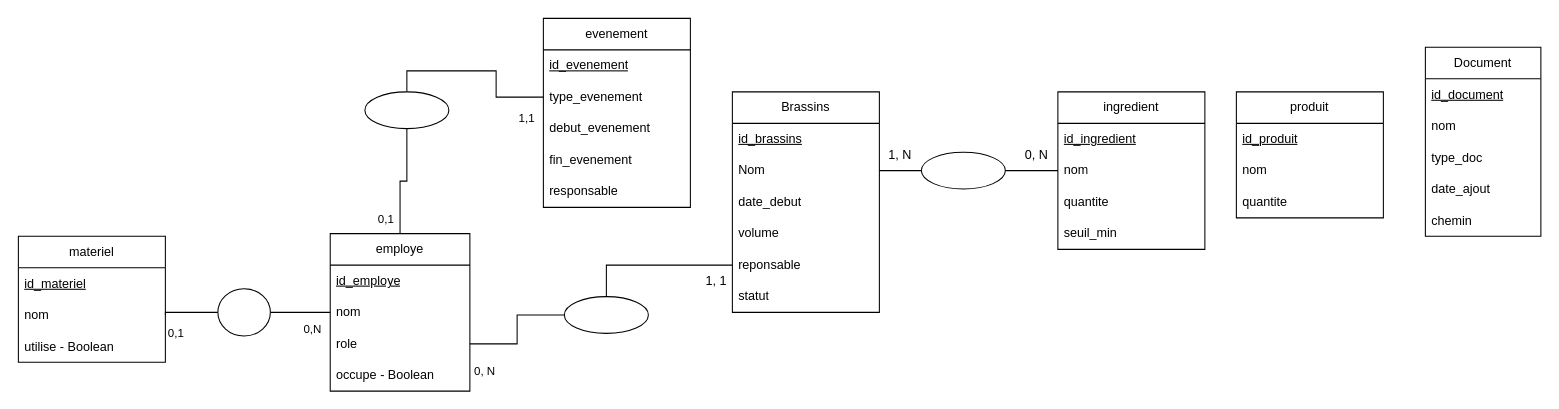
Some shapes in this 1559 by 409 pixel diagram are drawn without their labels. The centre of each missing label's shape, as x and y in pixels:
"gère" belongs at (605,314).
"organiser" belongs at (406,110).
"utilise" belongs at (243,312).
"Utiliser" belongs at (962,170).
